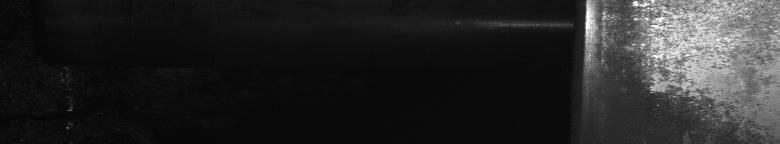kb: (596, 4, 732, 124)
